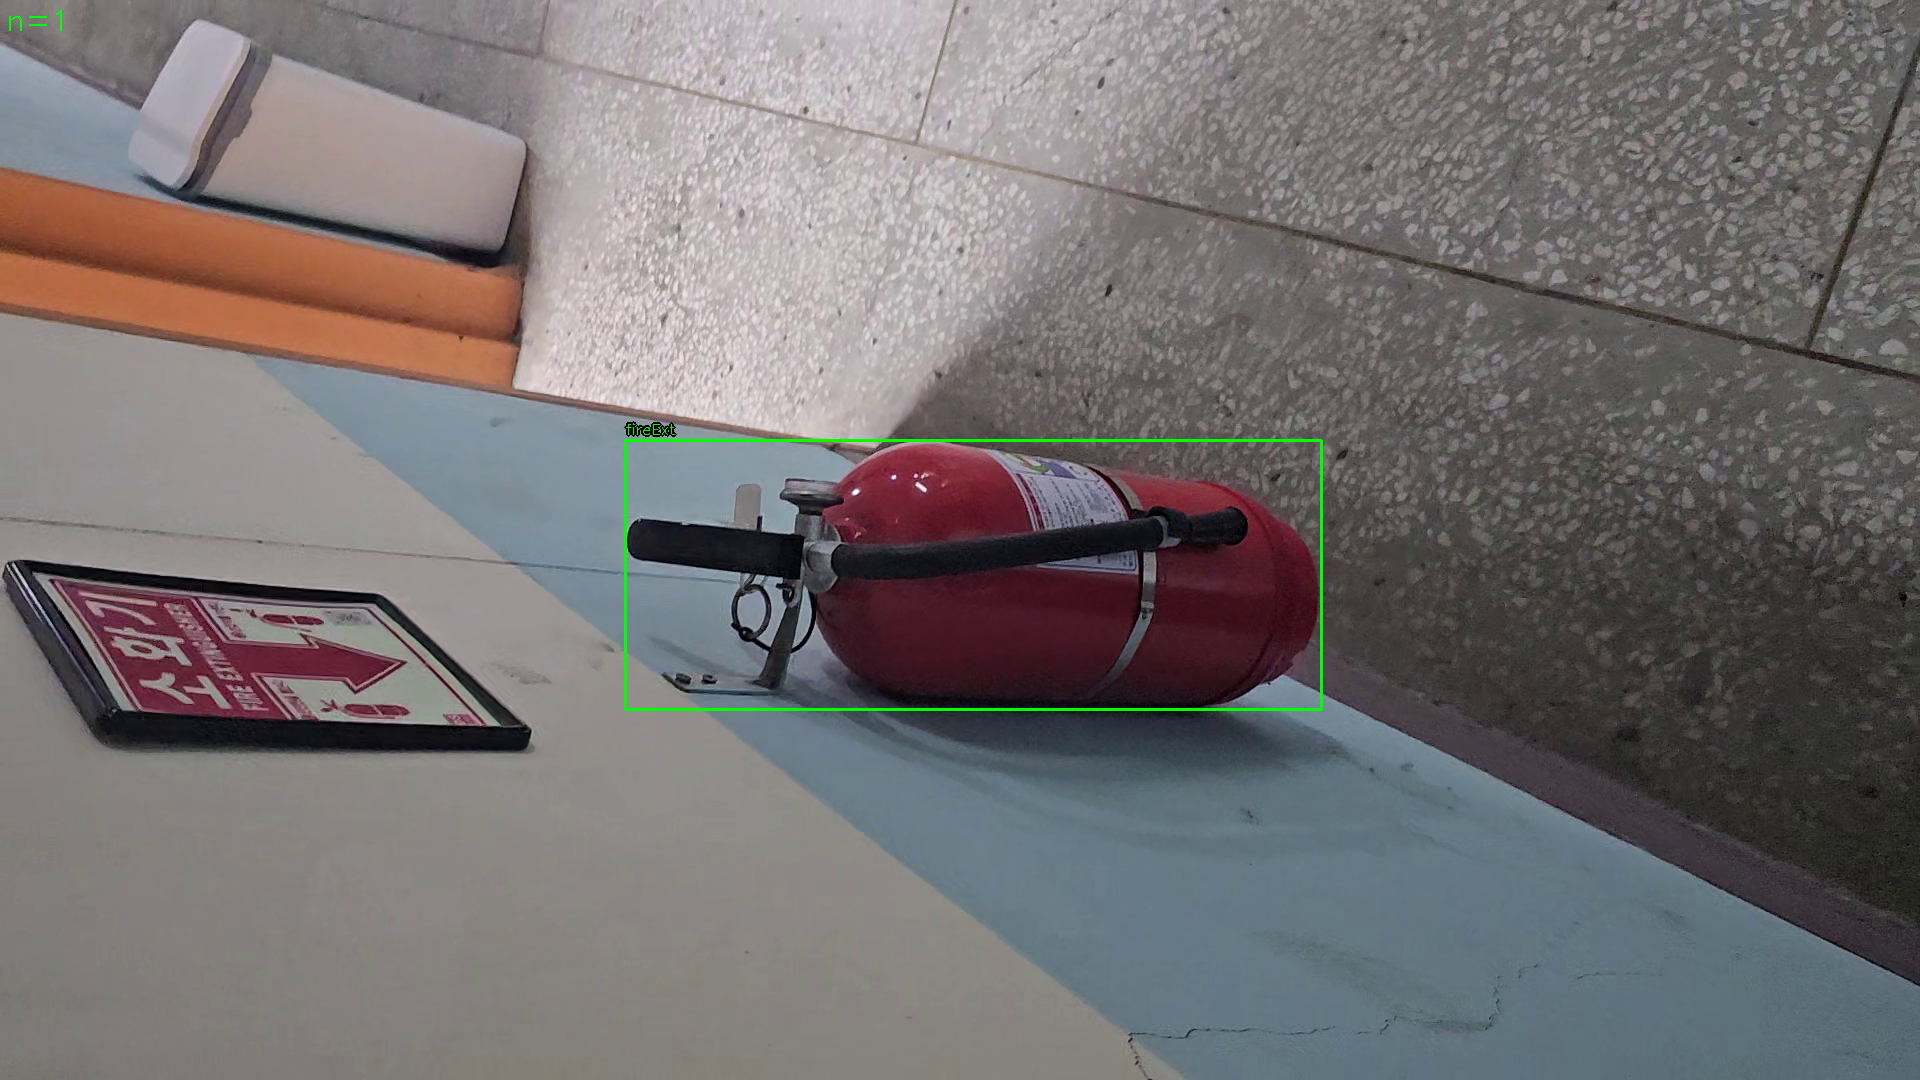lane: (625, 440, 1323, 709)
